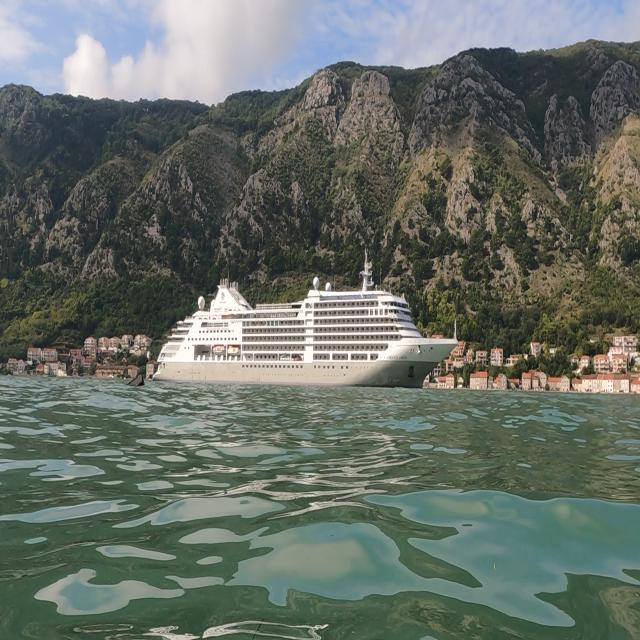boat: (150, 246, 459, 390)
buoy: (121, 368, 146, 391)
